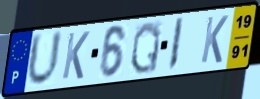6: (98, 23, 130, 80)
I: (166, 16, 185, 73)
K: (199, 14, 230, 65), (60, 30, 91, 81)
Q: (129, 19, 163, 76)
U: (25, 28, 64, 89)
